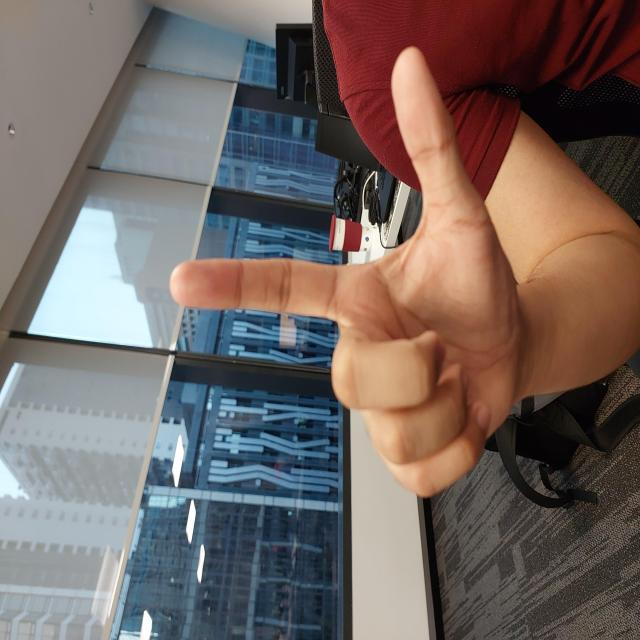L: (141, 168, 599, 537)
